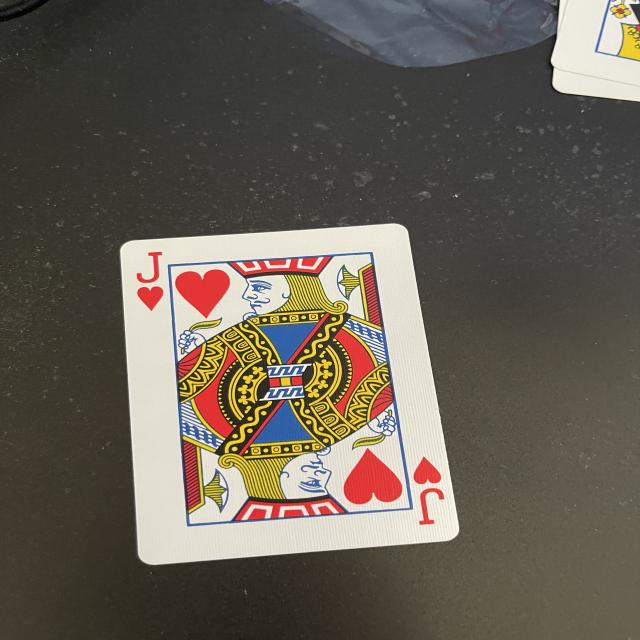Jack of hearts: (122, 224, 460, 567)
